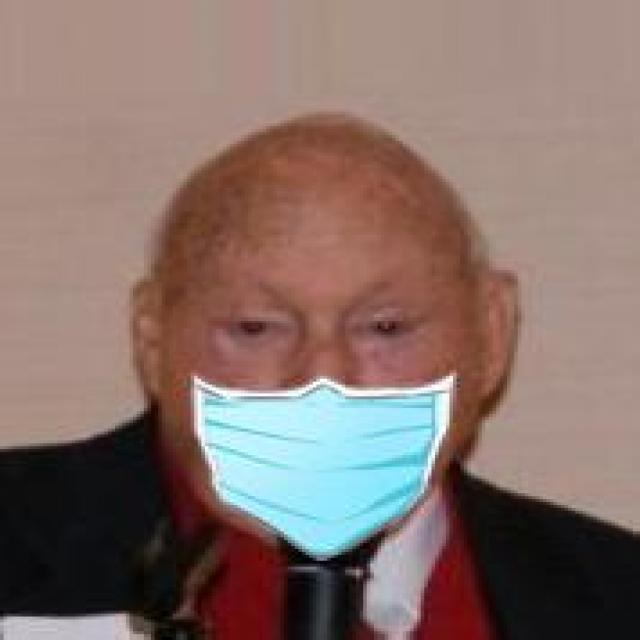mask: (90, 85, 528, 555)
